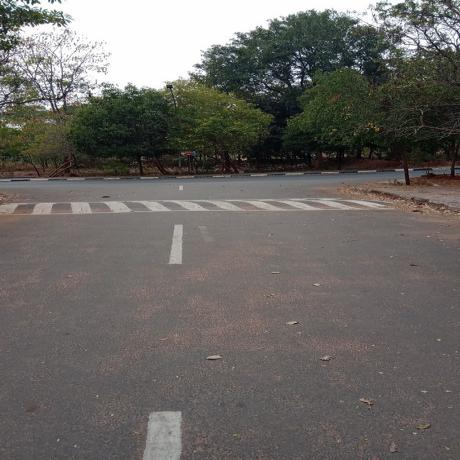Speed Bump: (1, 198, 400, 215)
